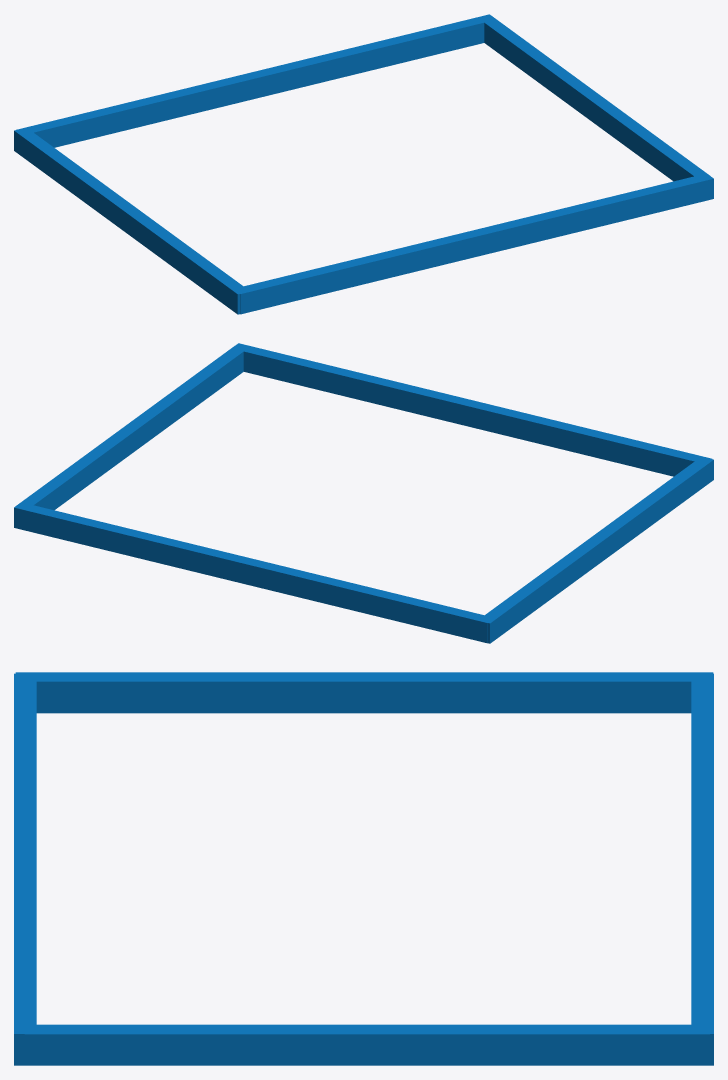
File: GhostRoom.obj
The picture shows the model from 3 angles, top to bottom: view 1: azimuth 30°, elevation 25°; view 2: azimuth 150°, elevation 25°; view 3: azimuth 270°, elevation 25°; orthographic projection. The views are drawn at different scales.
Visible parts, largest first — view 1: Cube.001, Cube.004, Cube.002, Cube.003; view 2: Cube.004, Cube.001, Cube.002, Cube.003; view 3: Cube.003, Cube.002, Cube.001, Cube.004.
Boxes of the visible parts, <box> form: Cube.001: <box>233,174,713,314</box>; Cube.004: <box>16,14,495,147</box>; Cube.002: <box>14,129,248,314</box>; Cube.003: <box>479,15,708,181</box>; Cube.004: <box>14,502,494,643</box>; Cube.001: <box>231,343,711,476</box>; Cube.002: <box>480,457,713,643</box>; Cube.003: <box>15,347,246,510</box>; Cube.003: <box>24,1024,709,1065</box>; Cube.002: <box>15,672,713,713</box>; Cube.001: <box>14,673,36,1065</box>; Cube.004: <box>691,673,713,1065</box>.
Size of the model in its own units: 39.4 by 1.61 by 32.19.
